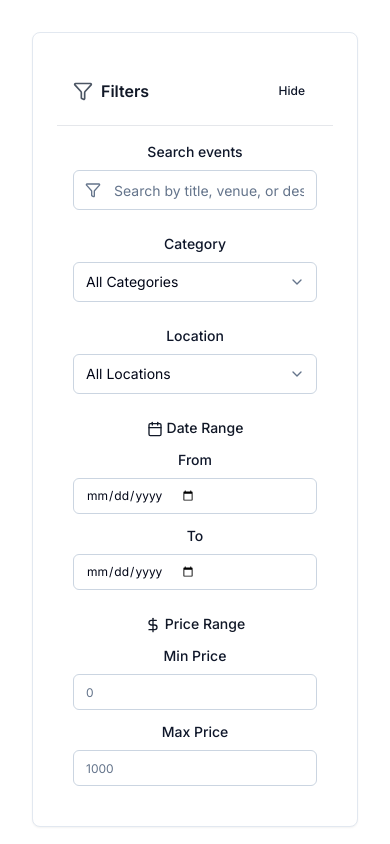
Test case: FilterPanel › toggles filter panel visibility on mobile
Click the button "Hide" at (292, 91), box [267,73,317,109]
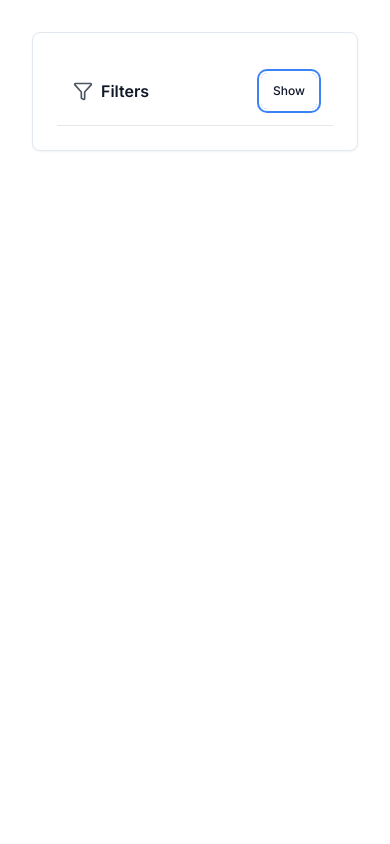
expect the button "Show" is shown: met, box [261,73,317,109]
